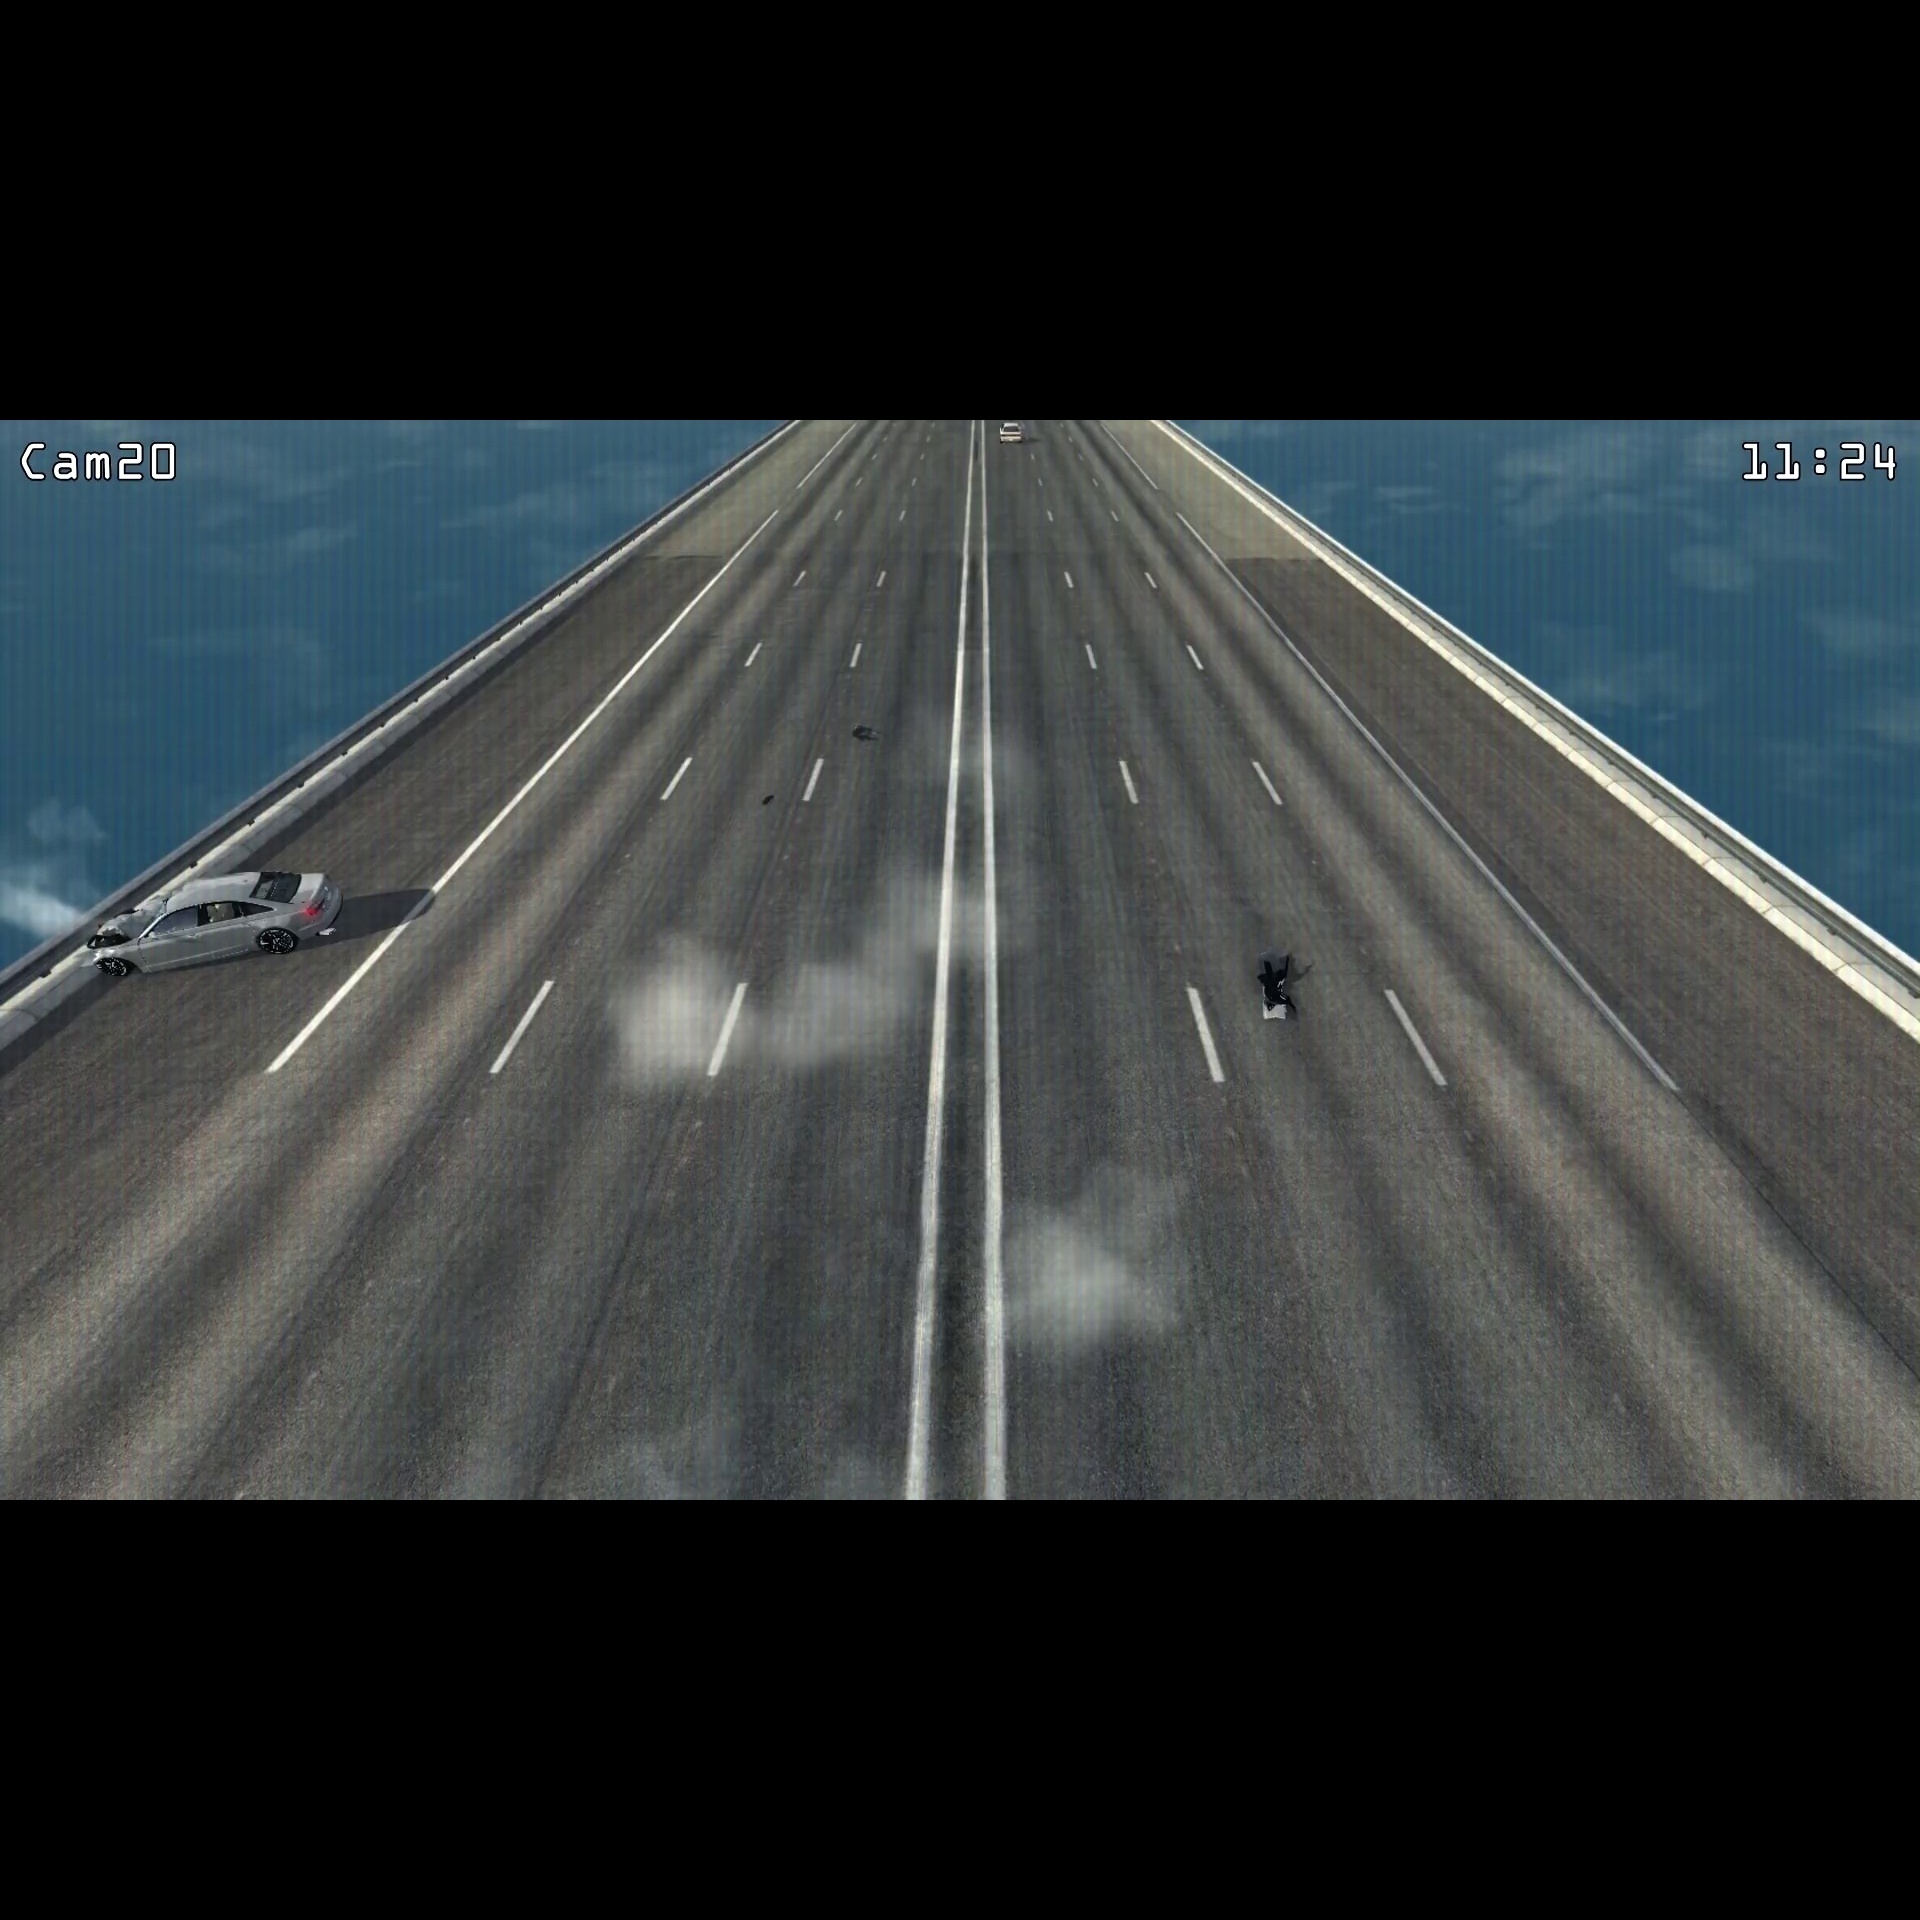vehicle: (84, 860, 345, 988)
